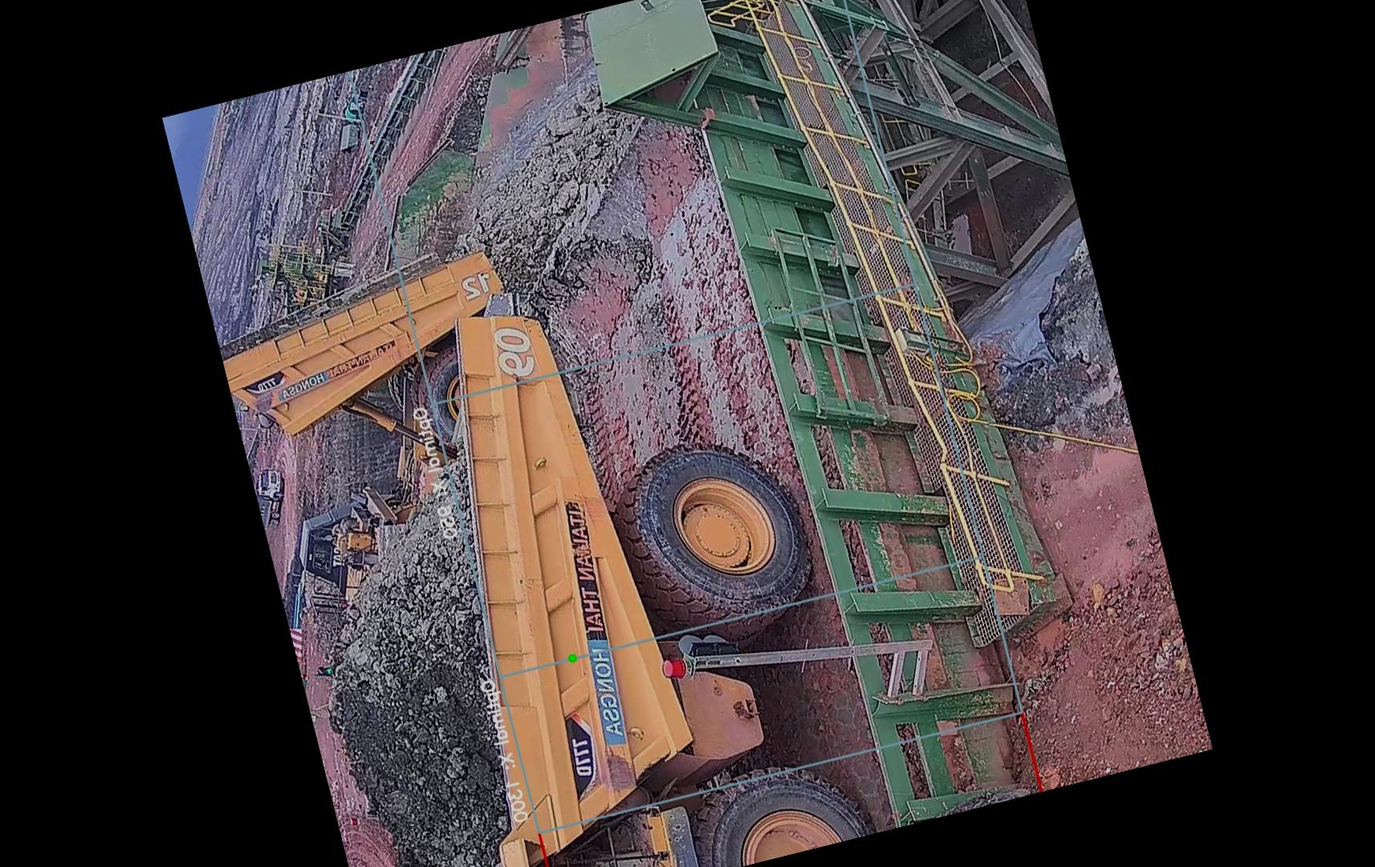company: (538, 495, 647, 750)
full_load: (283, 476, 551, 867)
mining_truck: (230, 233, 885, 867)
tail_number: (483, 315, 546, 390)
truck_size: (557, 726, 604, 788)
